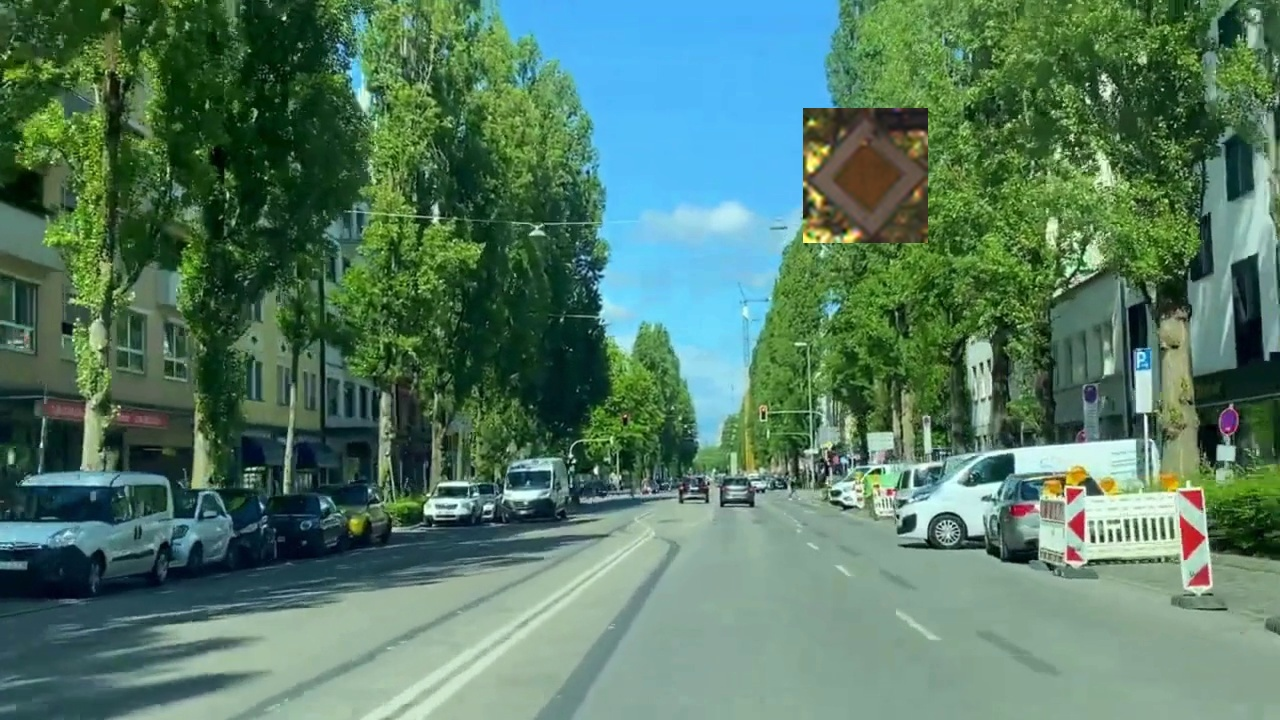Priority road: (803, 108, 928, 243)
